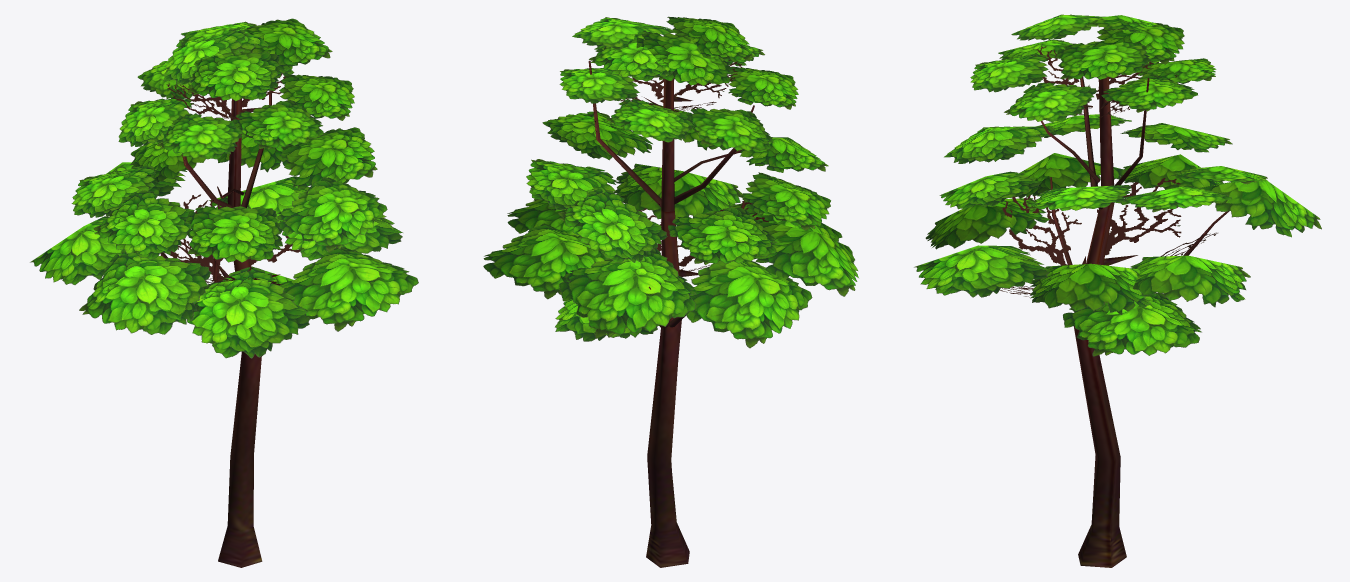
File: Tree05.fbx
3 renders of one model, left to right at view 1: azimuth 30°, elevation 25°; view 2: azimuth 150°, elevation 25°; view 3: azimuth 270°, elevation 25°, orthographic. The views are drawn at different scales.
Visible parts, largest first — view 1: polySurface365; view 2: polySurface365; view 3: polySurface365.
Boxes of the visible parts, x1,y1,x2,y2 form: polySurface365: [30, 18, 418, 567]; polySurface365: [483, 16, 858, 567]; polySurface365: [914, 14, 1321, 567].
Size of the model in its own units: 3.17 by 4.68 by 3.46.
